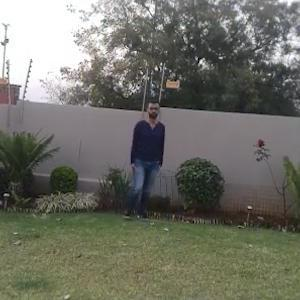follow: (122, 99, 165, 231)
